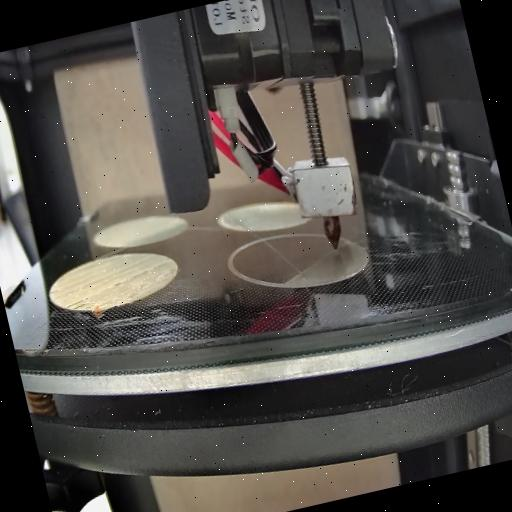under_extrusion: (112, 258, 172, 290), (66, 296, 96, 318), (46, 284, 62, 298)
